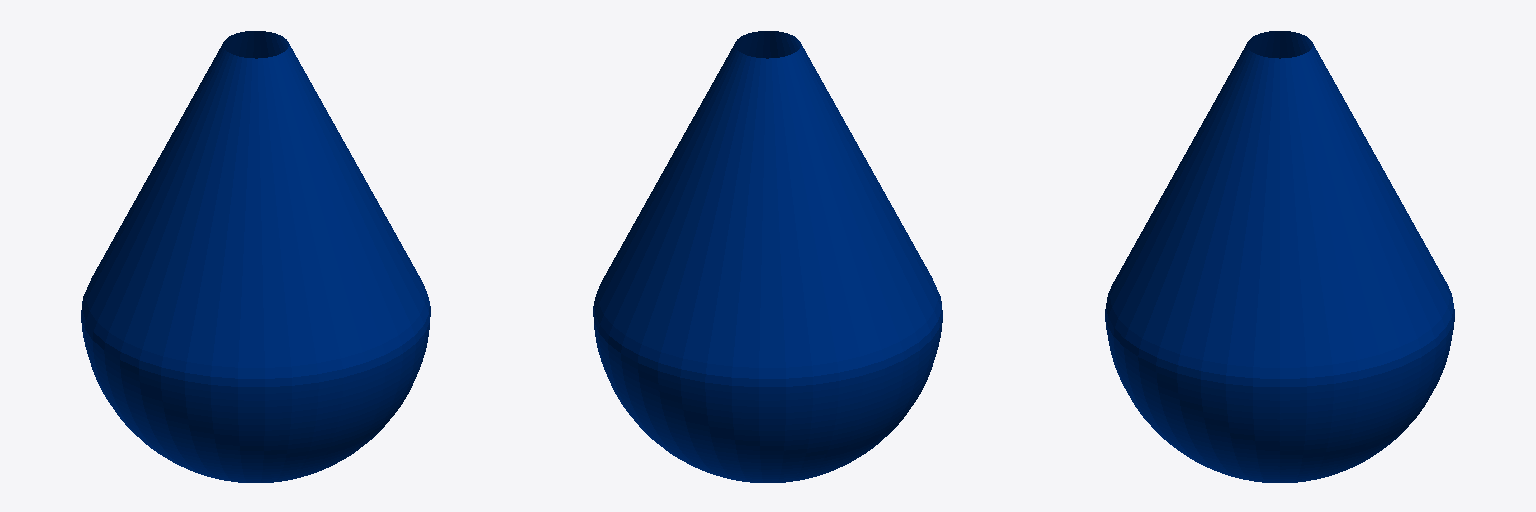
File: P_body.obj
3 renders of one model, left to right at view 1: azimuth 30°, elevation 25°; view 2: azimuth 150°, elevation 25°; view 3: azimuth 270°, elevation 25°, orthographic.
Parts seen in each view (by area): view 1: body; view 2: body; view 3: body.
Boxes of the visible parts, <box> form: body: <box>81,31,430,482</box>; body: <box>593,31,942,482</box>; body: <box>1105,31,1454,482</box>.
Size of the model in its own units: 1.97 by 2.62 by 1.97.